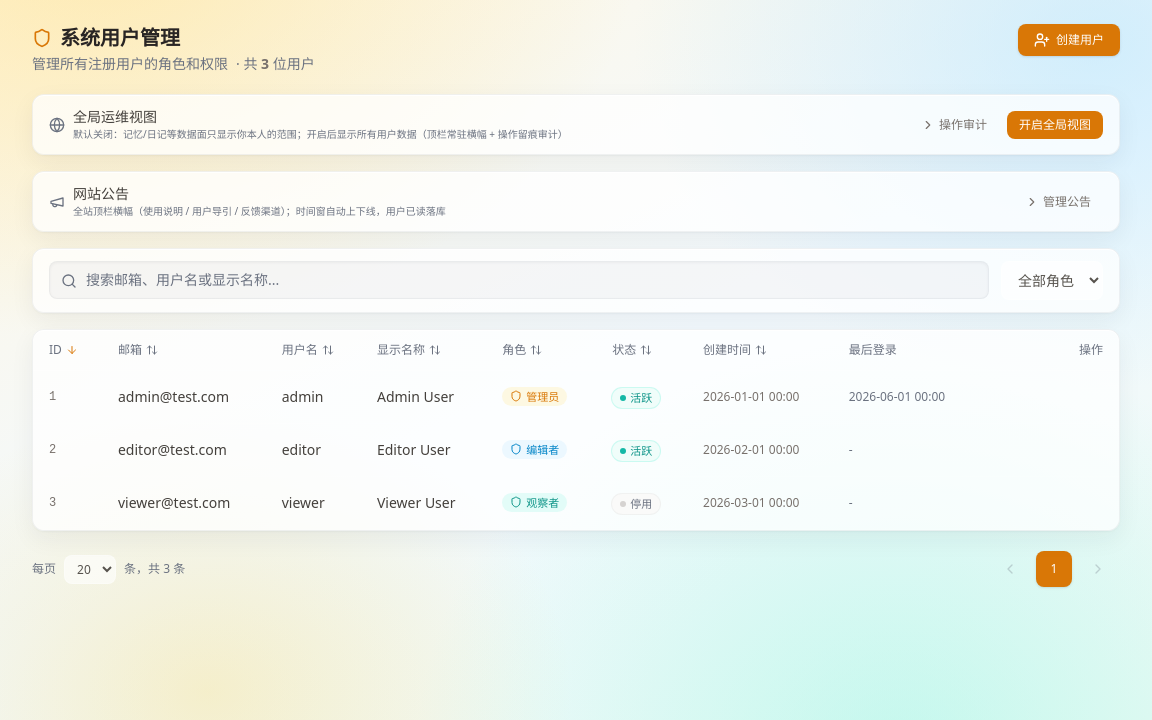
Test: AdminUsersPage › click "创建用户" button opens create modal
Expected: the text "Admin User" is shown, [361,370,486,424]
Note: 点击创建用户按钮（用 role 定位，唯一匹配）
Click the button "创建用户" at (1069, 40), box [1018,24,1120,56]
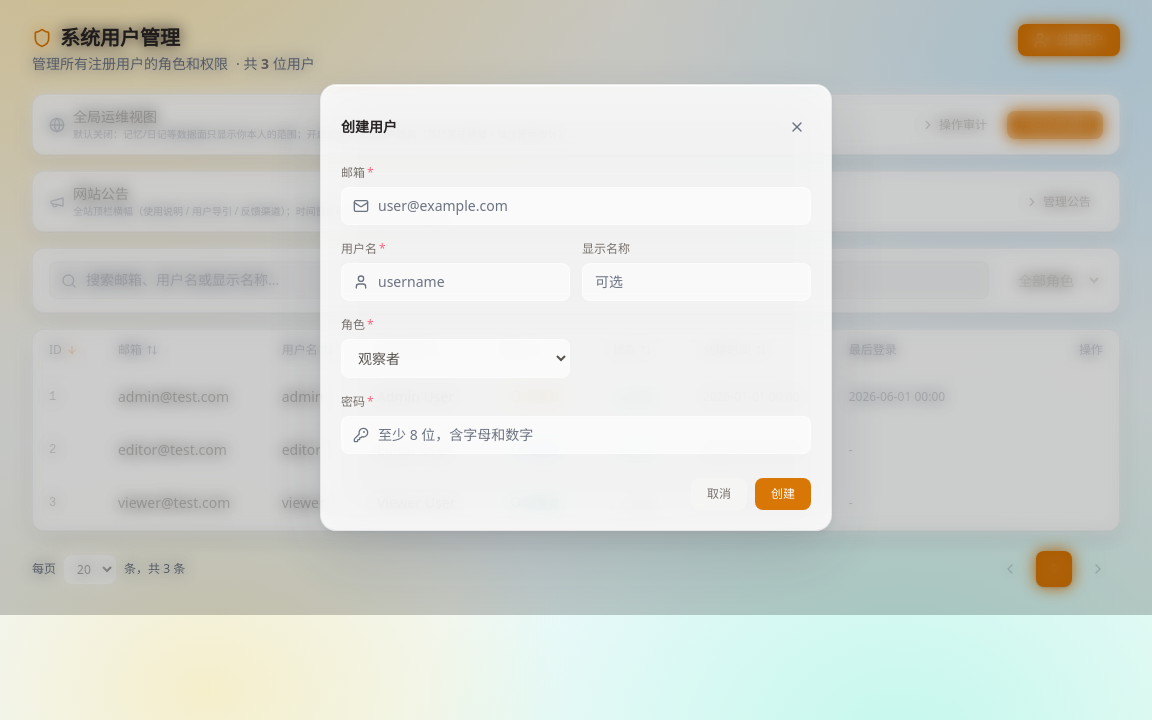
Result: the text "密码" is shown at [341,393,365,410]
